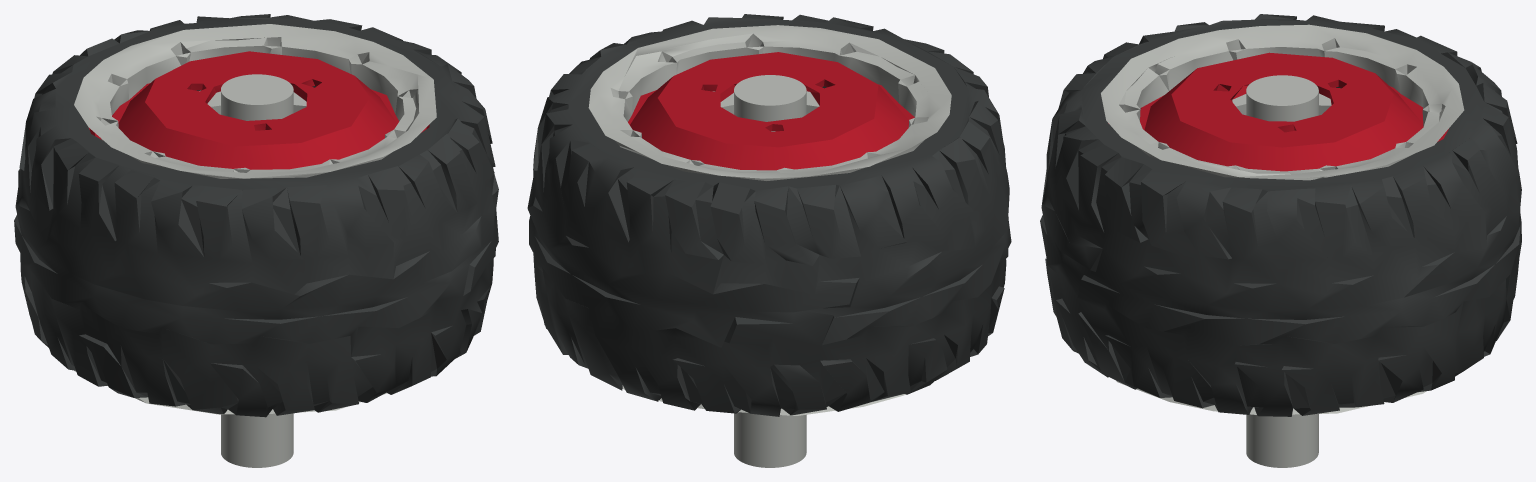
File: wheel.dae
3 renders of one model, left to right at view 1: azimuth 30°, elevation 25°; view 2: azimuth 150°, elevation 25°; view 3: azimuth 270°, elevation 25°, orthographic.
Visible parts, largest first — view 1: wheel; view 2: wheel; view 3: wheel.
Boxes of the visible parts, left/top/right/bottom form: wheel: left=14, top=14, right=498, bottom=467; wheel: left=527, top=14, right=1011, bottom=467; wheel: left=1040, top=14, right=1521, bottom=467.
Size of the model in its own units: 0.1594 by 0.1593 by 0.132.
